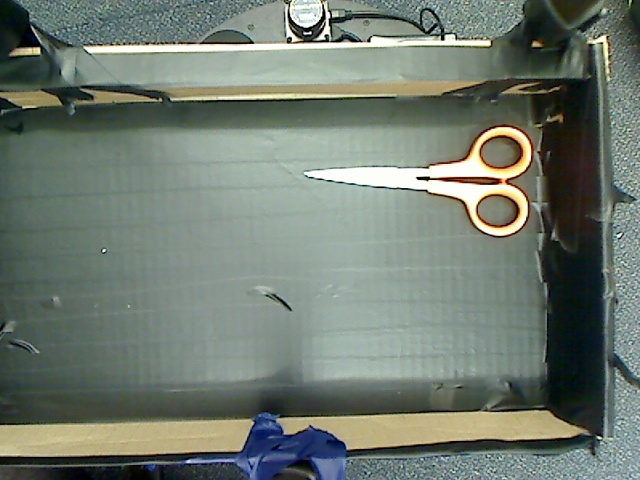scissors: (290, 121, 539, 237)
